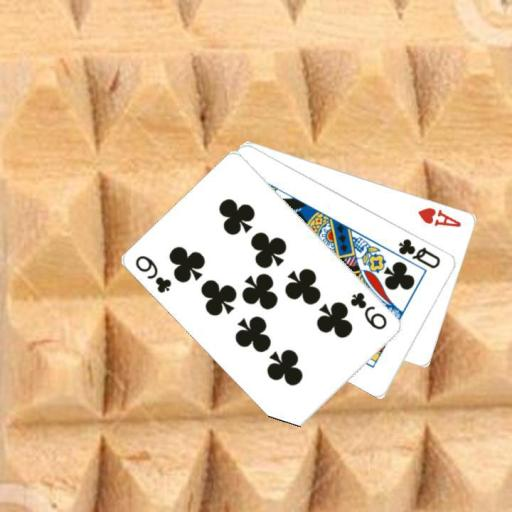9C: (347, 289, 390, 331), (132, 252, 174, 295)
AH: (415, 204, 463, 229)
QC: (396, 235, 443, 270)
